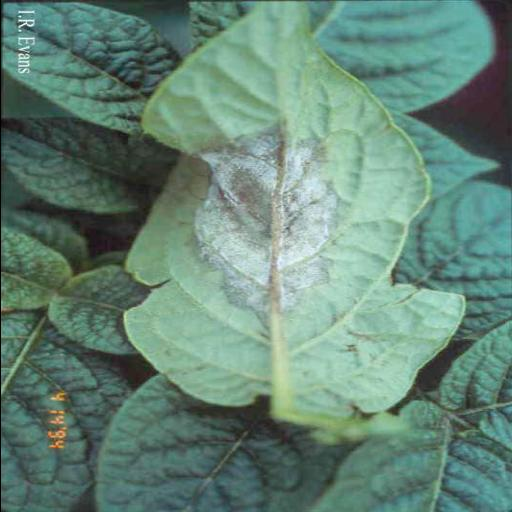Late Blight: (123, 5, 471, 427)
